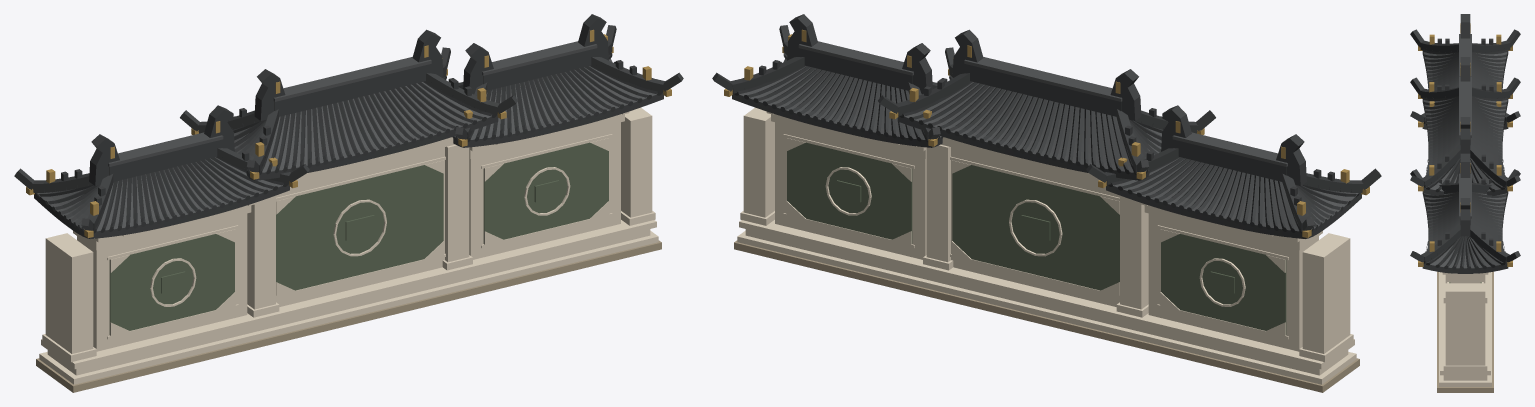
3 renders of one model, left to right at view 1: azimuth 30°, elevation 25°; view 2: azimuth 150°, elevation 25°; view 3: azimuth 270°, elevation 25°, orthographic. The views are drawn at different scales.
Visible parts, largest first — view 1: X05; view 2: X05; view 3: X05.
Part boxes in pixels (box(x1,y1,x2,y2)): X05: box(14, 14, 683, 392); X05: box(712, 14, 1381, 392); X05: box(1410, 14, 1520, 392).
Bounding box in the file's own units: 28.03 × 11.38 × 5.83.
